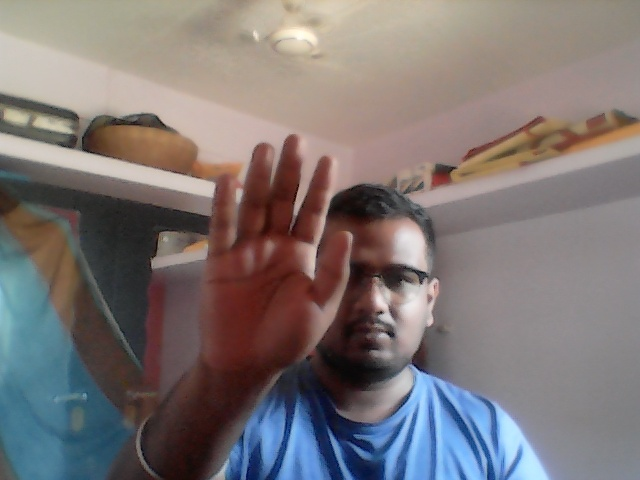Hello: (198, 132, 356, 376)
